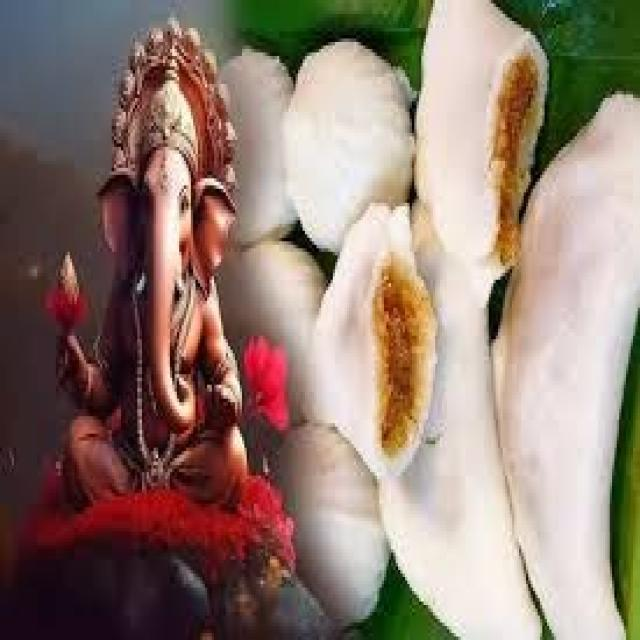poorna kolukattai: (274, 0, 636, 614)
